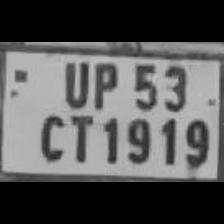1: (154, 113, 180, 166), (95, 112, 121, 164)
3: (158, 59, 188, 111)
5: (126, 59, 160, 109)
9: (180, 113, 210, 168), (122, 112, 153, 164)
C: (33, 110, 67, 162)
P: (89, 59, 121, 111)
T: (66, 112, 96, 164)
U: (58, 57, 90, 107)
